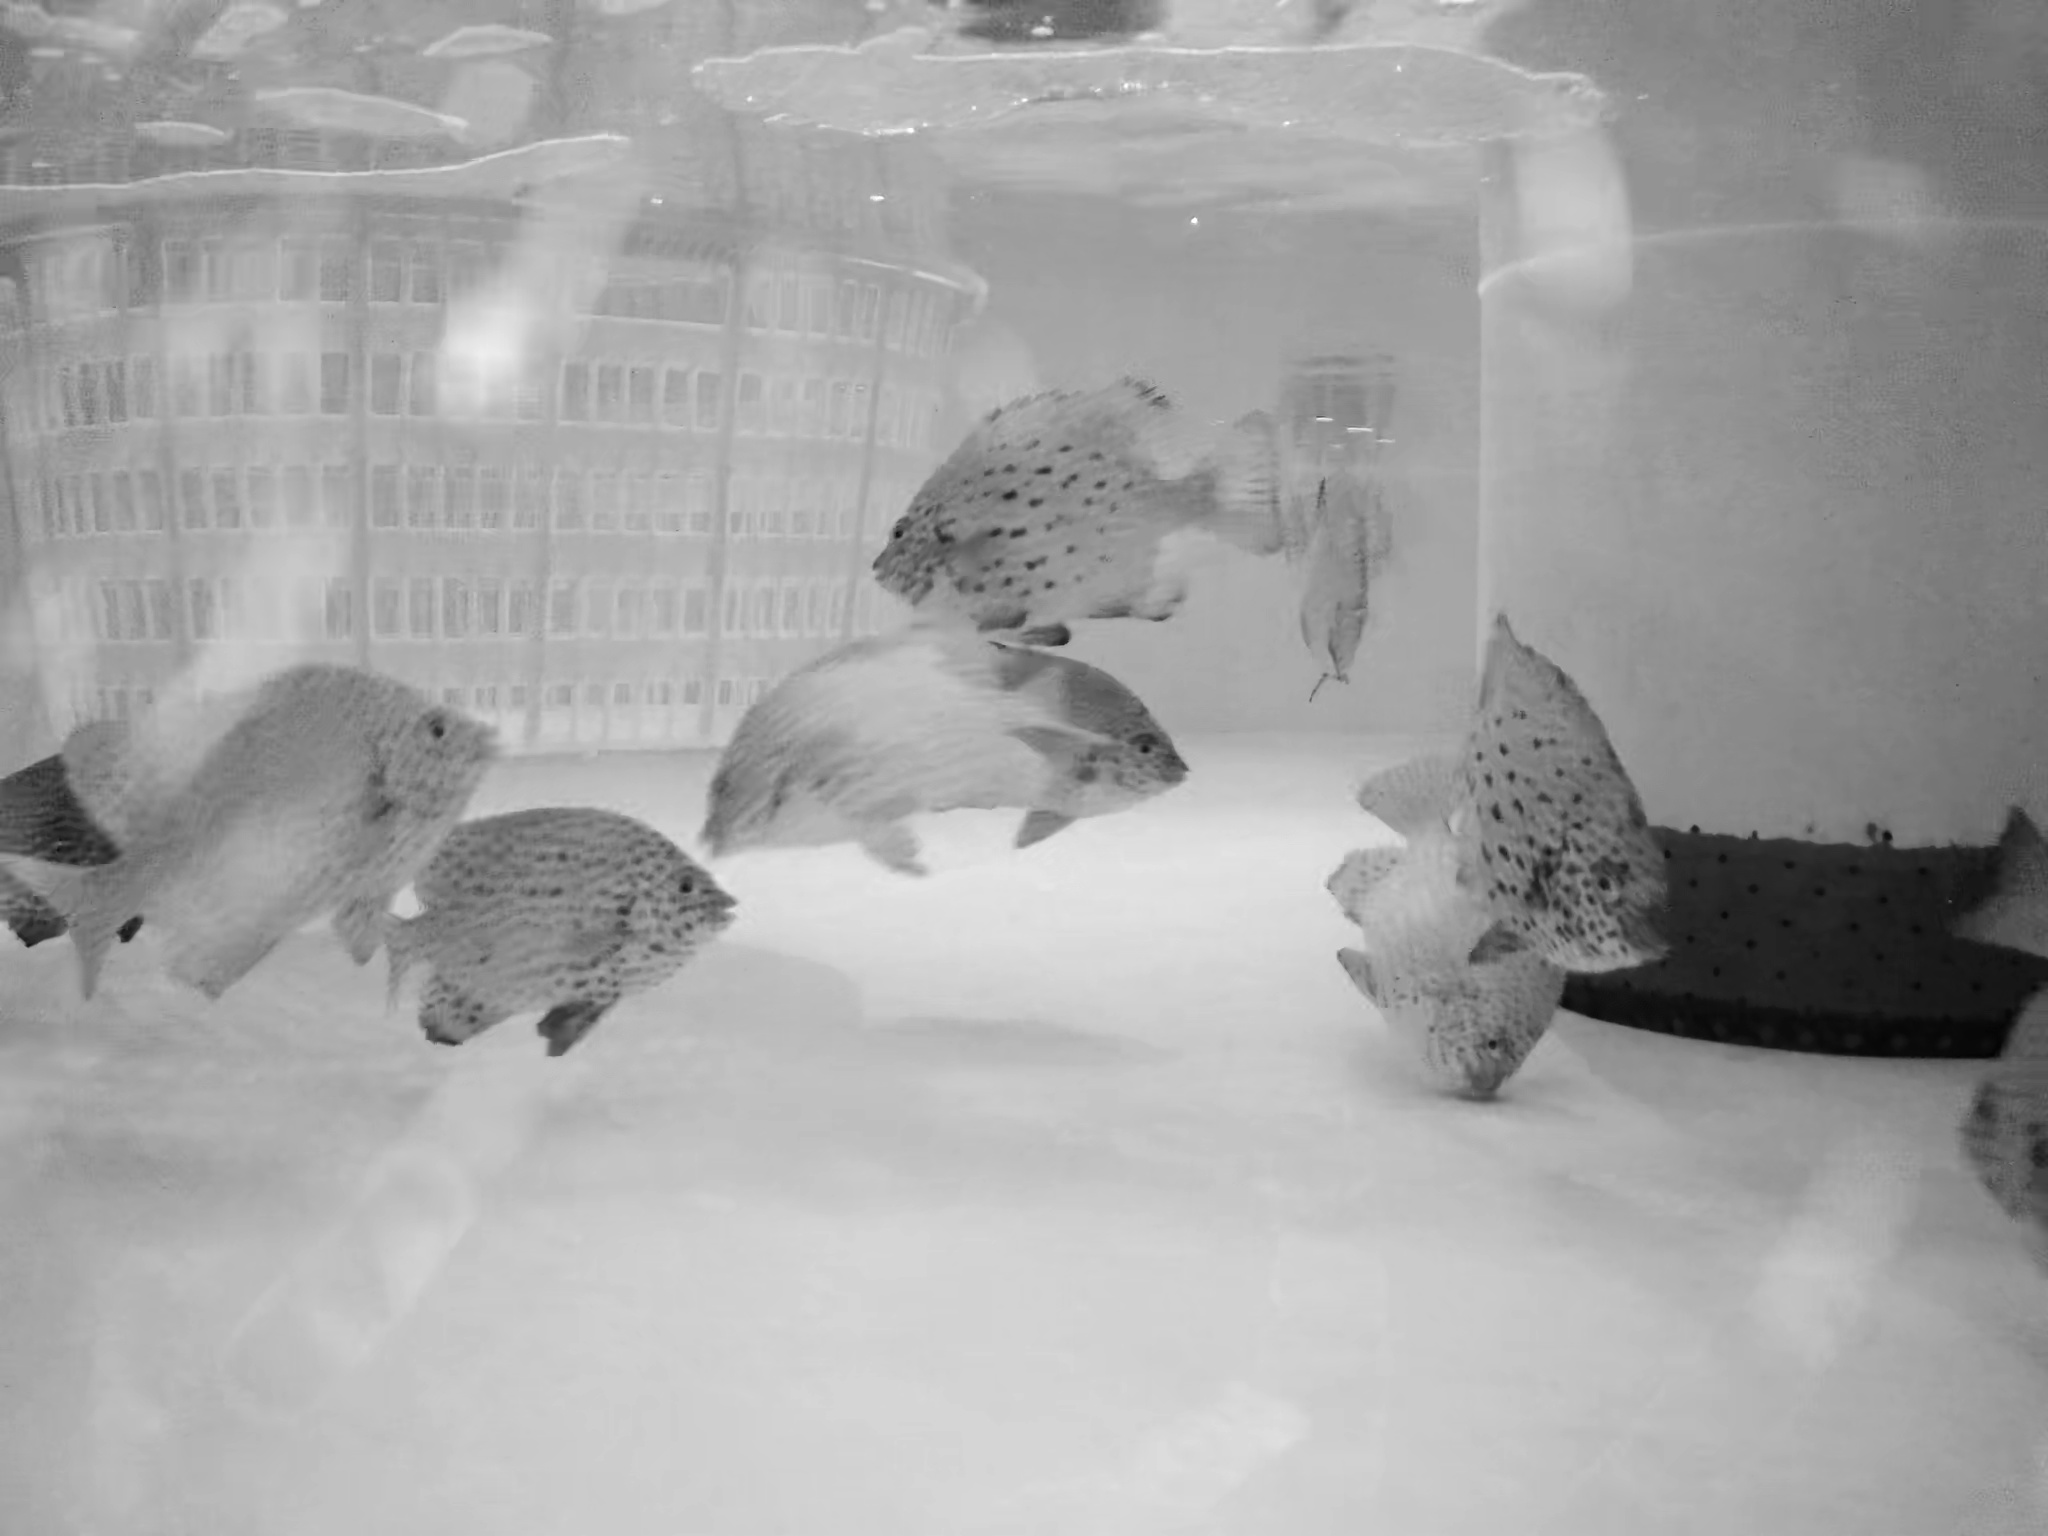fish: (24, 652, 516, 1005), (871, 361, 1280, 639), (376, 802, 731, 1057), (1463, 605, 1688, 983), (705, 631, 1001, 892), (1356, 737, 1564, 1096), (2, 723, 231, 971), (951, 644, 1188, 883), (1953, 984, 2048, 1247), (1295, 466, 1384, 684), (1953, 792, 2048, 975), (1324, 844, 1487, 941)
